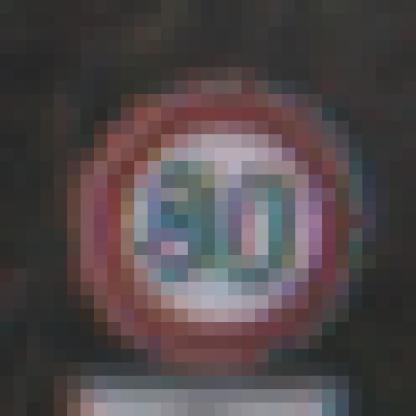Speed Limit 80: (87, 84, 353, 372)
